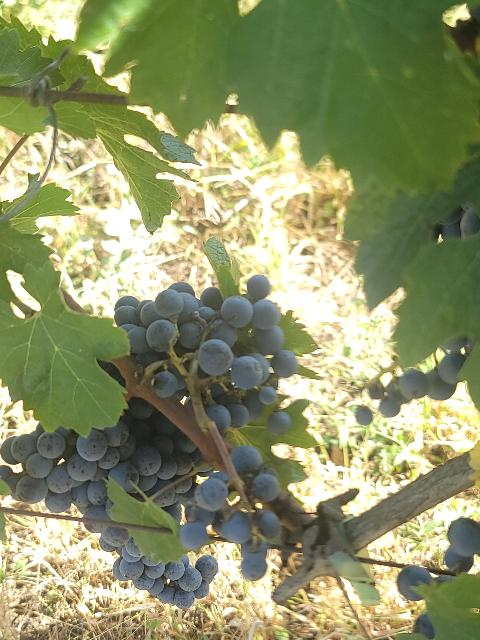grapes: (0, 409, 218, 609), (115, 275, 300, 431), (179, 472, 280, 580)
